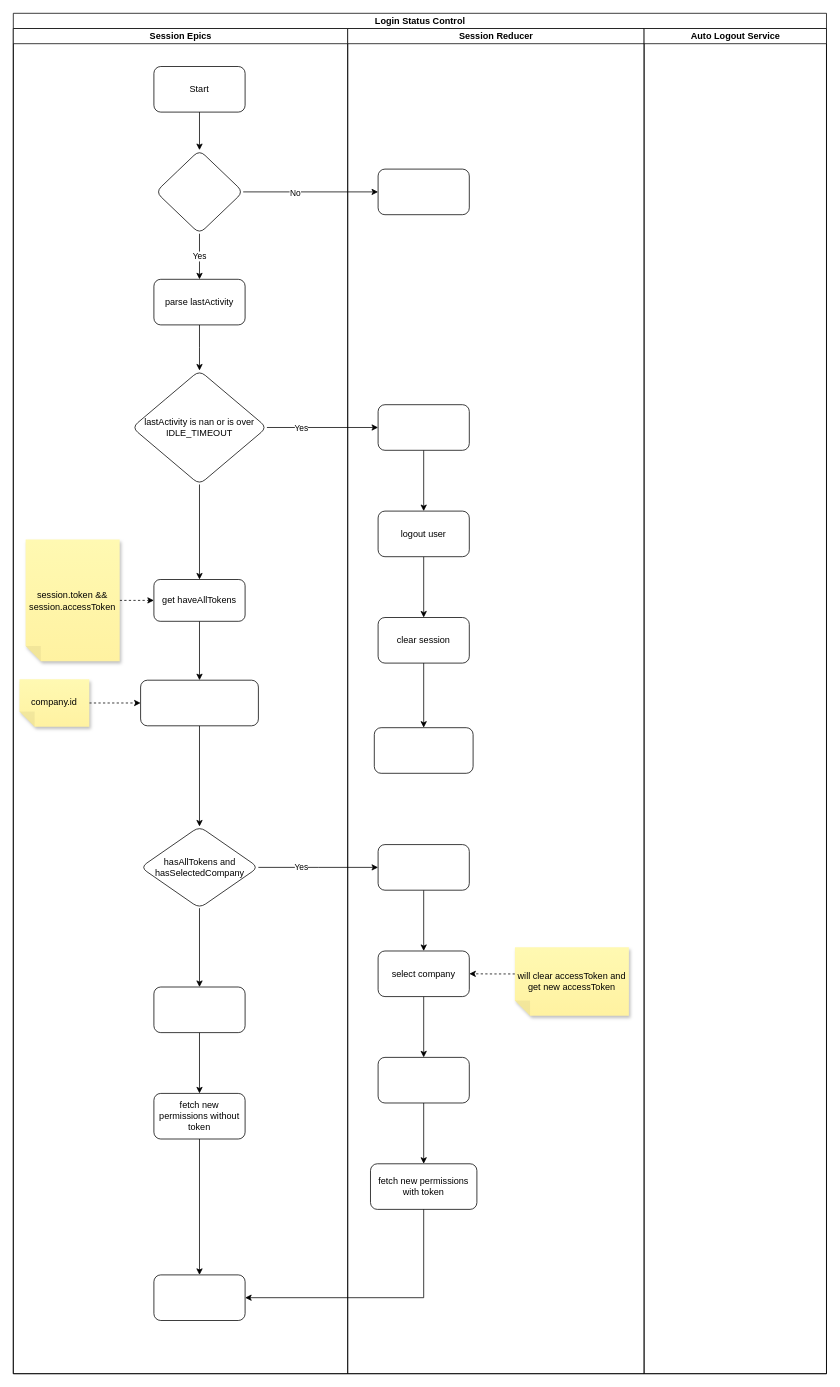
This 840x1387 diagram has some shape labels left out. The shapes that lost their labels are listed below. From the top down, each one's centre as x and y in pixels, then its label:
At (199,191): "have session token".
At (423,191): "set isPending false".
At (423,427): "logout user with time out".
At (199,702): "get hasSelectedCompany".
At (423,750): "navigate to login page".
At (423,867): "fetch MenuItems".
At (199,1009): "token retrieved".
At (423,1080): "token retrieved after rehydrate".
At (199,1297): "End".
